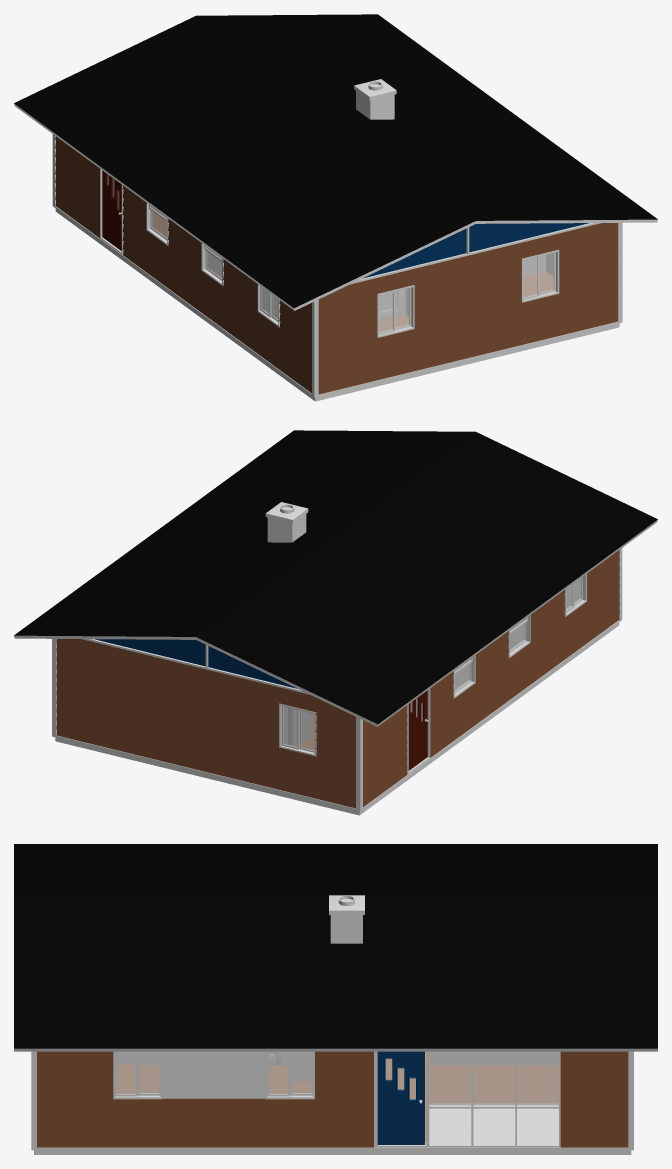
The model's file is Coklat.fbx.
The picture shows the model from 3 angles, top to bottom: view 1: azimuth 30°, elevation 25°; view 2: azimuth 150°, elevation 25°; view 3: azimuth 270°, elevation 25°; orthographic projection. The views are drawn at different scales.
Parts seen in each view (by area): view 1: fw-50-roof_Asphalt020_0.002, fw-50-siding_C_plywood_grey_0.002, fw-50-supportBeams_Wood058_0.002, fw-50-walls_Accent_Blue_0.002, fw-50-foundation_ConcreteSubstance004_0.002, fw-50-roof_Wood058_0.002, fw-50-doorFront_I.002_Accent_Blue_0.002, fw-50-windowDouble.002_Glass_0.002, fw-50-windowDouble.004_Glass_0.002, fw-50-walls_WoodFloor_0.002, fw-50-walls_Wood058_0.002, fw-50-chimney_Metal_White_0.002 (+3 smaller); view 2: fw-50-roof_Asphalt020_0.002, fw-50-siding_C_plywood_grey_0.002, fw-50-supportBeams_Wood058_0.002, fw-50-walls_Accent_Blue_0.002, fw-50-foundation_ConcreteSubstance004_0.002, fw-50-roof_Wood058_0.002, fw-50-doorFront_I.002_Accent_Blue_0.002, fw-50-windowDouble.006_Glass_0.002, fw-50-walls_Wood058_0.002, fw-50-chimney_Metal_White_0.002, fw-50-windowDouble.006_Wood058_0.002, fw-50-chimney_Metal_Aluminum_0.002; view 3: fw-50-roof_Asphalt020_0.002, fw-50-siding_C_plywood_grey_0.002, fw-50-walls_Wood058_0.002, fw-50-walls_WoodFloor_0.002, windowLarge-triple-designB.006_Glass_0.002, windowLarge-triple-designB.006_Wood058_0.002, fw-50-doorFront_I.001_Accent_Blue_0.002, fw-50-supportBeams_Wood058_0.002, fw-50-foundation_ConcreteSubstance004_0.002, fw-50-roof_Wood058_0.002, windowLarge-triple-designB.006_Wood_0.002, fw-50-windowDouble.003_Glass_0.002 (+6 smaller).
Boxes of the visible parts, left/top/right/bottom form: fw-50-roof_Asphalt020_0.002: left=14, top=14, right=657, bottom=308; fw-50-siding_C_plywood_grey_0.002: left=55, top=136, right=618, bottom=394; fw-50-supportBeams_Wood058_0.002: left=52, top=134, right=622, bottom=397; fw-50-walls_Accent_Blue_0.002: left=363, top=223, right=589, bottom=278; fw-50-foundation_ConcreteSubstance004_0.002: left=55, top=209, right=619, bottom=401; fw-50-roof_Wood058_0.002: left=14, top=103, right=657, bottom=310; fw-50-doorFront_I.002_Accent_Blue_0.002: left=102, top=170, right=121, bottom=250; fw-50-windowDouble.002_Glass_0.002: left=523, top=253, right=553, bottom=297; fw-50-windowDouble.004_Glass_0.002: left=379, top=288, right=409, bottom=332; fw-50-walls_WoodFloor_0.002: left=154, top=208, right=553, bottom=331; fw-50-walls_Wood058_0.002: left=209, top=249, right=553, bottom=317; fw-50-chimney_Metal_White_0.002: left=356, top=91, right=394, bottom=119; fw-50-roof_Asphalt020_0.002: left=14, top=430, right=657, bottom=724; fw-50-siding_C_plywood_grey_0.002: left=56, top=550, right=619, bottom=808; fw-50-supportBeams_Wood058_0.002: left=52, top=548, right=622, bottom=811; fw-50-walls_Accent_Blue_0.002: left=95, top=639, right=296, bottom=688; fw-50-foundation_ConcreteSubstance004_0.002: left=55, top=622, right=619, bottom=815; fw-50-roof_Wood058_0.002: left=14, top=520, right=657, bottom=726; fw-50-doorFront_I.002_Accent_Blue_0.002: left=408, top=690, right=427, bottom=770; fw-50-windowDouble.006_Glass_0.002: left=283, top=707, right=314, bottom=750; fw-50-walls_Wood058_0.002: left=294, top=580, right=578, bottom=746; fw-50-chimney_Metal_White_0.002: left=267, top=514, right=306, bottom=542; fw-50-windowDouble.006_Wood058_0.002: left=279, top=703, right=316, bottom=756; fw-50-chimney_Metal_Aluminum_0.002: left=265, top=502, right=308, bottom=523; fw-50-roof_Asphalt020_0.002: left=14, top=844, right=657, bottom=1048; fw-50-siding_C_plywood_grey_0.002: left=37, top=1051, right=628, bottom=1147; fw-50-walls_Wood058_0.002: left=117, top=1051, right=558, bottom=1098; fw-50-walls_WoodFloor_0.002: left=117, top=1051, right=558, bottom=1142; windowLarge-triple-designB.006_Glass_0.002: left=429, top=1051, right=558, bottom=1104; windowLarge-triple-designB.006_Wood058_0.002: left=376, top=1051, right=558, bottom=1147; fw-50-doorFront_I.001_Accent_Blue_0.002: left=377, top=1051, right=424, bottom=1144; fw-50-supportBeams_Wood058_0.002: left=31, top=1051, right=633, bottom=1150; fw-50-foundation_ConcreteSubstance004_0.002: left=34, top=1150, right=631, bottom=1154; fw-50-roof_Wood058_0.002: left=14, top=1048, right=657, bottom=1051; windowLarge-triple-designB.006_Wood_0.002: left=374, top=1051, right=560, bottom=1147; fw-50-windowDouble.003_Glass_0.002: left=269, top=1051, right=311, bottom=1093.
Size of the model in its own units: 919 by 410 by 1224.
